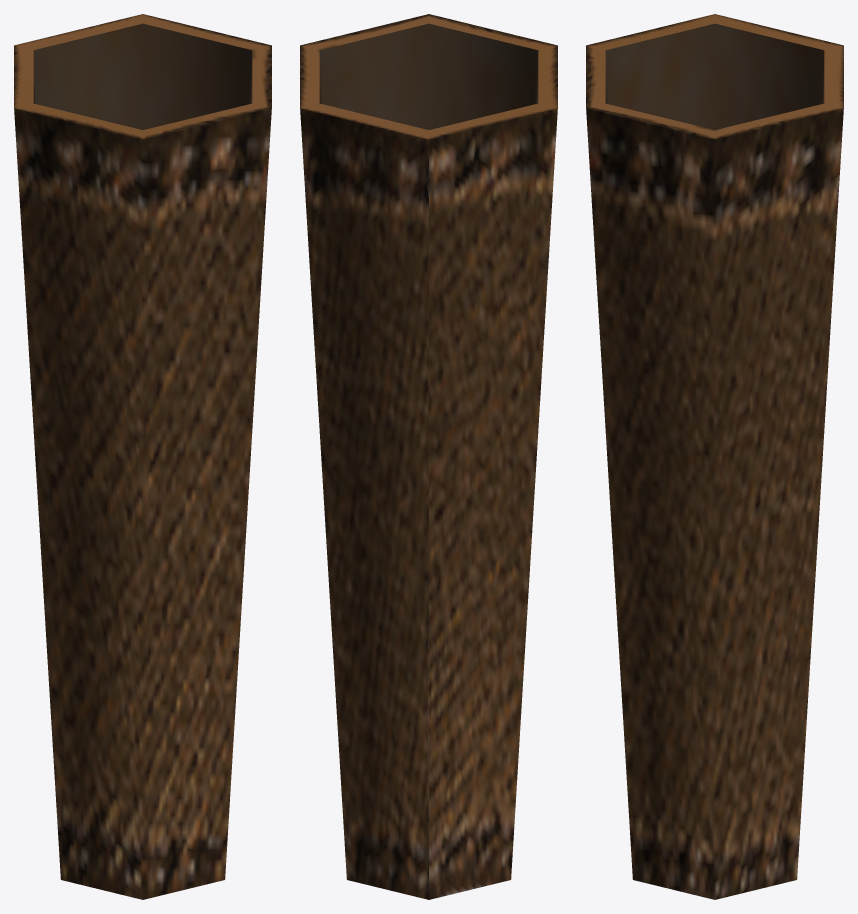
File: CARCAJ.FBX
The picture shows the model from 3 angles, left to right: view 1: azimuth 30°, elevation 25°; view 2: azimuth 150°, elevation 25°; view 3: azimuth 270°, elevation 25°; orthographic projection.
Visible parts, largest first — view 1: CARCAJ; view 2: CARCAJ; view 3: CARCAJ.
Part boxes in pixels (x1,y1,x2,y2): CARCAJ: (14, 14, 271, 899); CARCAJ: (300, 14, 557, 899); CARCAJ: (586, 14, 843, 899).
Bounding box in the file's own units: 29.96 × 25.95 × 86.96.
Materials: 1 (1 with a texture image).
